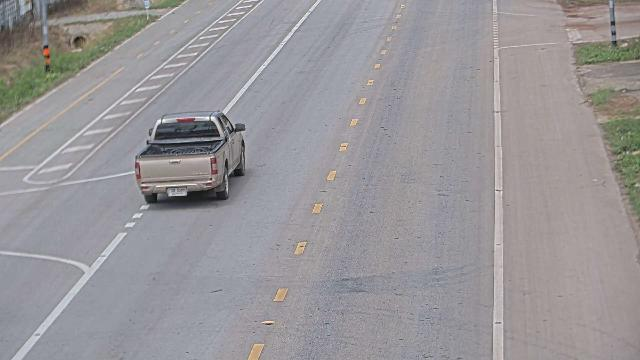pickup-truck: (133, 110, 246, 203)
